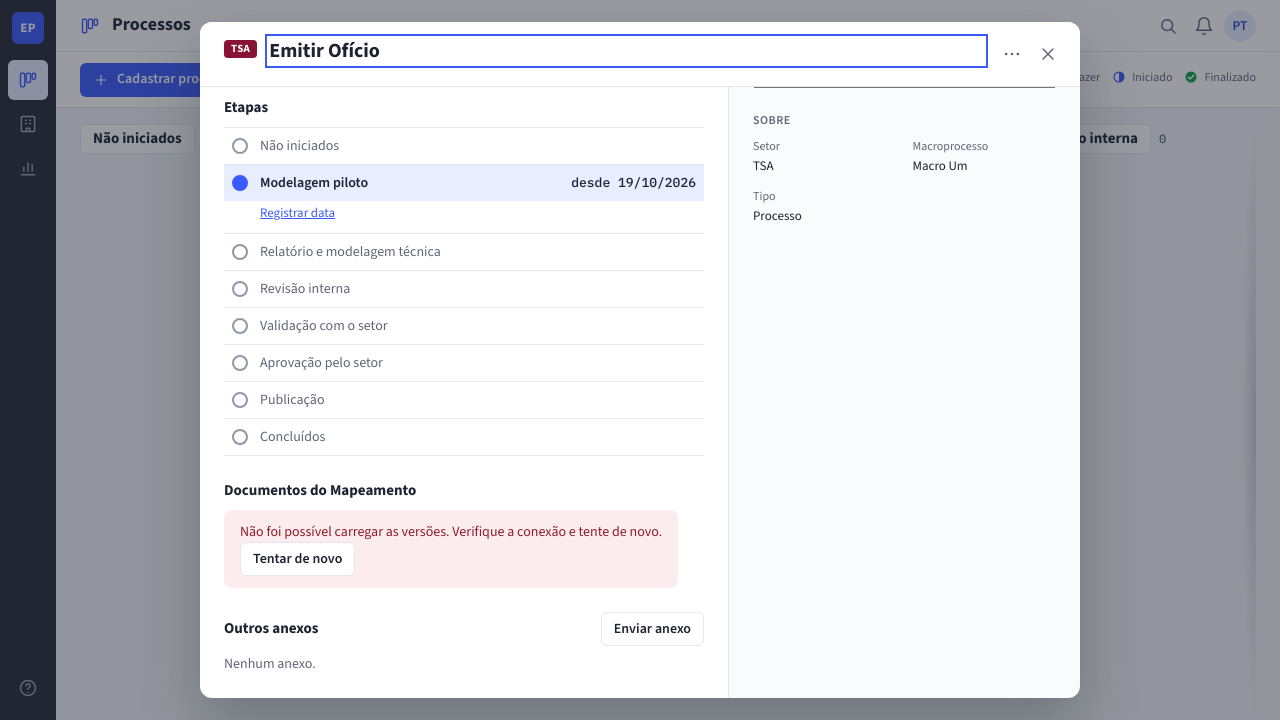
se a leitura falha, mostra o erro e [Tentar de novo] recarrega
(page scrolled)
Expected: the text "Não foi possível carregar as versões. Verifique a conexão e tente de novo." is shown, top-left (240, 522), bottom-right (662, 542)
What coordinates should you click on to do the following:
click the button "Tentar de novo"
I would click on:
 (298, 559)
Its box is top-left (240, 542), bottom-right (355, 576).
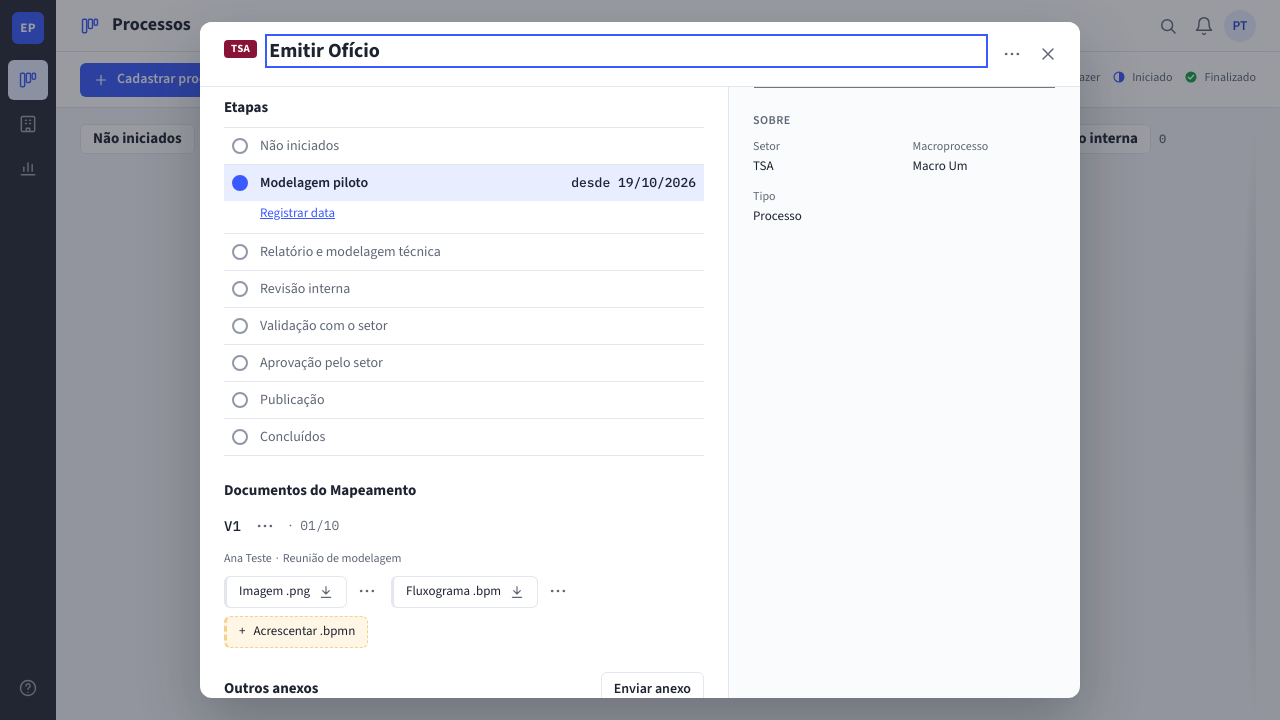
Expected: the element "V1" is shown, top-left (224, 510), bottom-right (574, 648)
